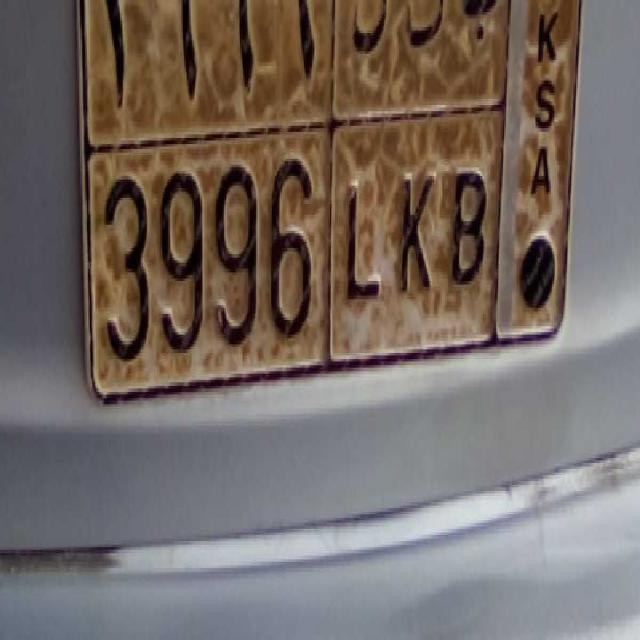license_plate: (84, 124, 502, 393)
